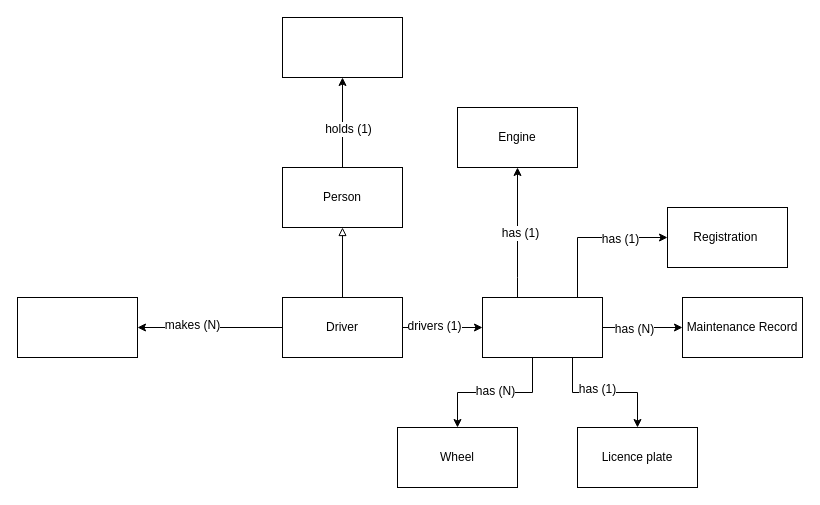
Image size: 820x505. Some labels were removed from this diagram. Here are the shapes that lost their labels. From the top down, the box of each, then its label:
(282, 16, 402, 78): Insurance Policy
(16, 296, 138, 358): Trip
(482, 296, 602, 358): Car
